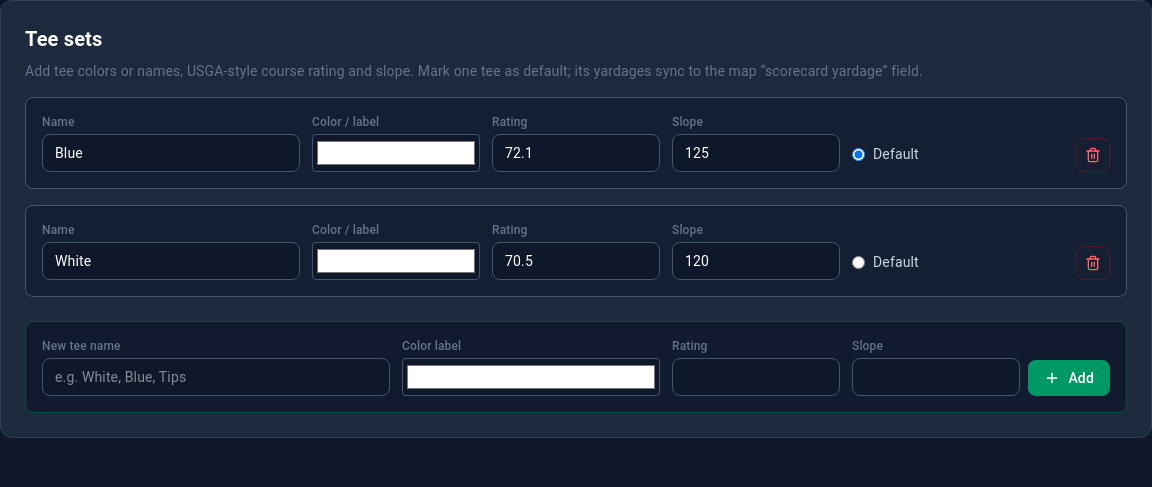
Scenario: CourseTeeSets Component › Adding a Tee › displays error from API failure
Type "Tips" into the field labelled "New tee name". click: {"x": 216, "y": 377}
box: x1=42 y1=358 x2=390 y2=396
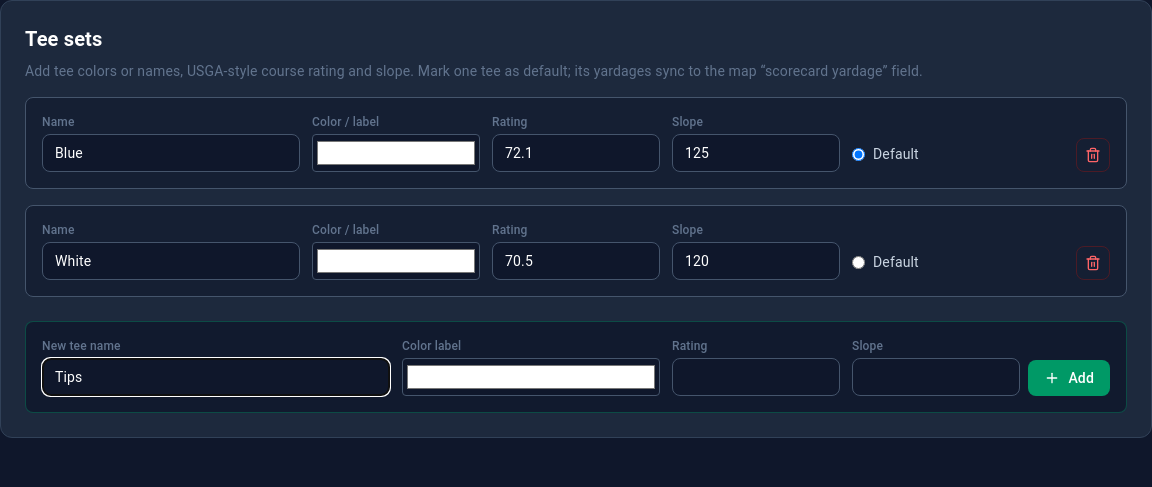
Click the button "Add". click: {"x": 1069, "y": 378}
box: x1=1028 y1=360 x2=1110 y2=396
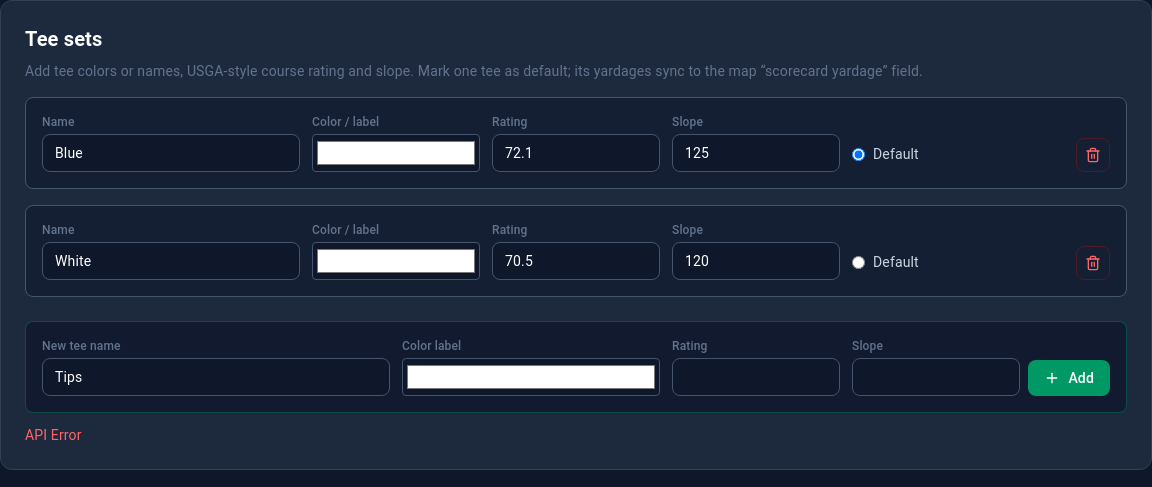
Expected: the text "API Error" is shown, x1=25 y1=427 x2=82 y2=443
